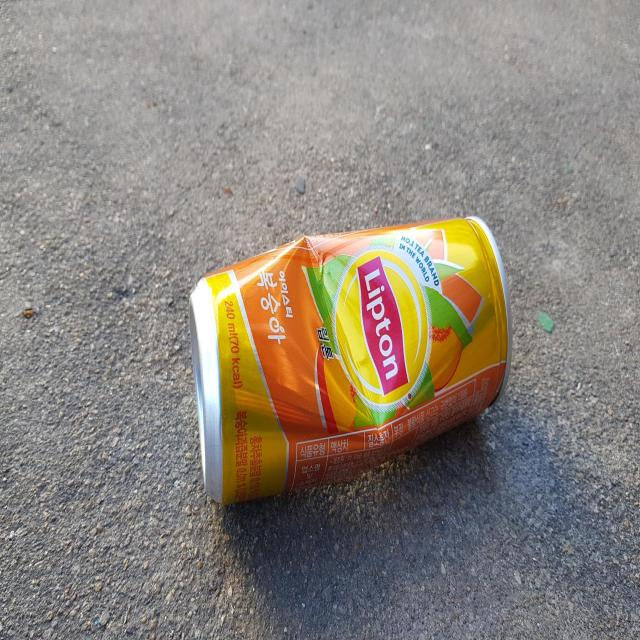can: (189, 216, 512, 505)
